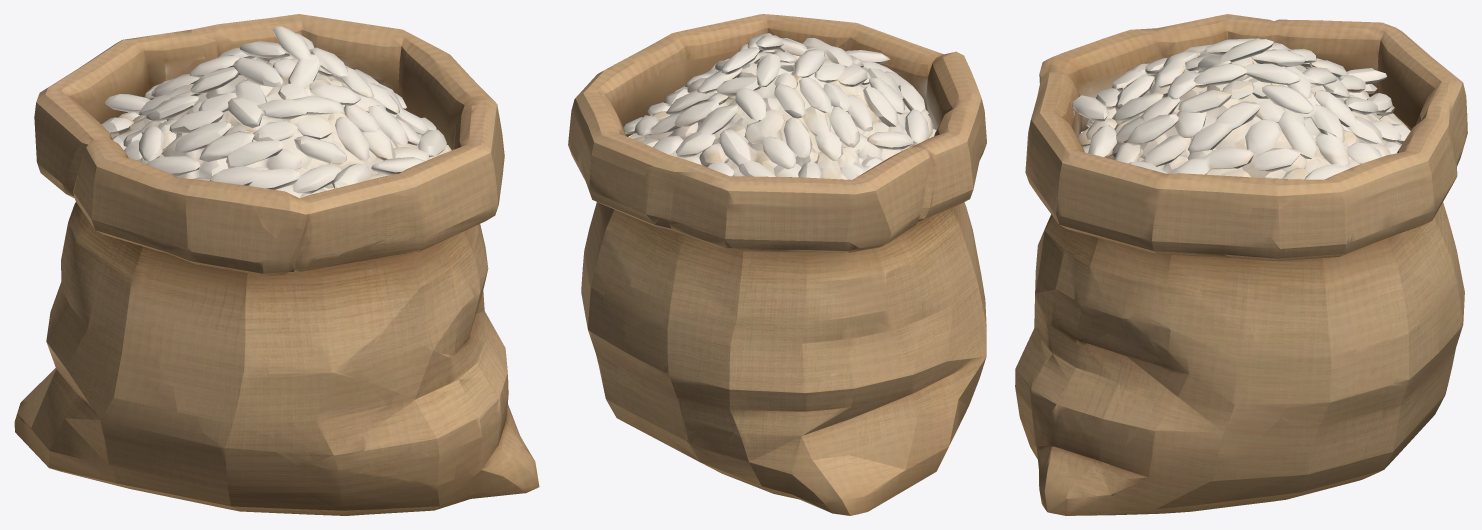
Rendered from rice-bag.glb.
3 renders of one model, left to right at view 1: azimuth 30°, elevation 25°; view 2: azimuth 150°, elevation 25°; view 3: azimuth 270°, elevation 25°, orthographic. The views are drawn at different scales.
Visible parts, largest first — view 1: RiceBag; view 2: RiceBag; view 3: RiceBag.
Boxes of the visible parts, bbox=[...] form: RiceBag: bbox=[14, 14, 539, 515]; RiceBag: bbox=[568, 14, 986, 515]; RiceBag: bbox=[1015, 14, 1467, 515].
Bounding box in the file's own units: 0.9926 × 0.9992 × 1.
Materials: 1 (1 with a texture image).
